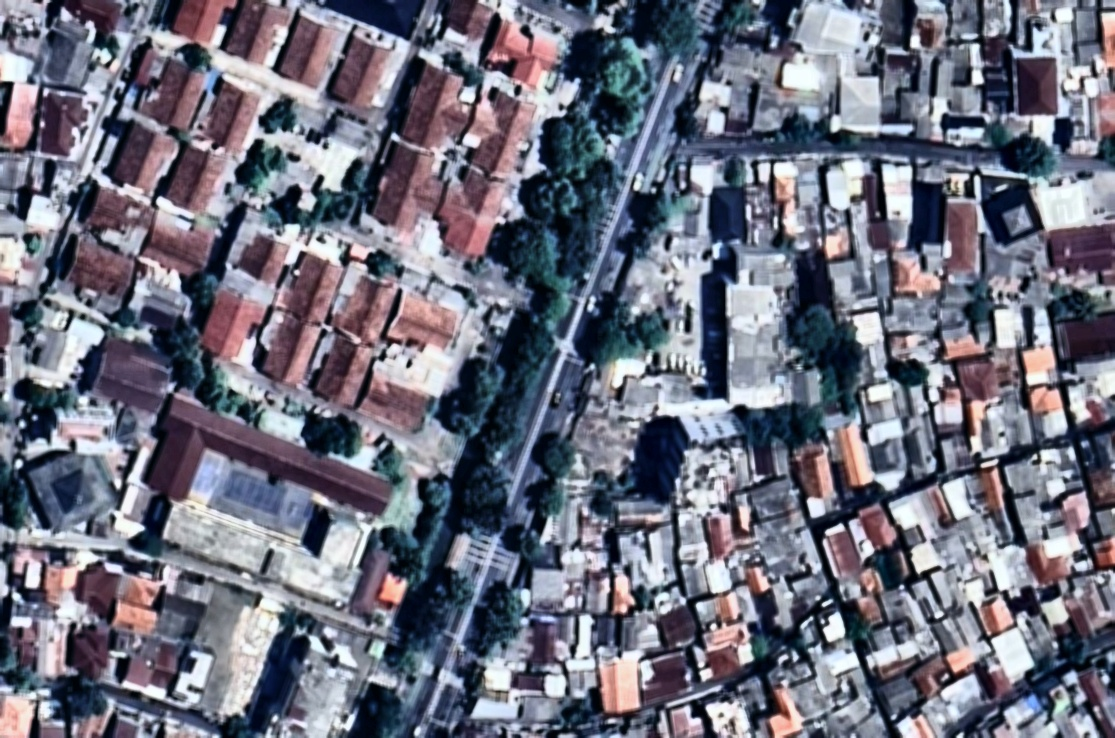building: (156, 394, 398, 520), (157, 496, 363, 611), (248, 607, 390, 738), (648, 394, 758, 527), (996, 438, 1102, 565), (725, 244, 801, 404), (377, 270, 469, 393), (699, 47, 819, 134), (451, 81, 546, 184), (22, 439, 124, 533), (43, 229, 140, 317), (368, 140, 454, 239), (428, 165, 512, 260), (395, 60, 479, 154), (99, 112, 187, 201), (219, 202, 298, 301), (1001, 669, 1114, 737), (247, 301, 330, 391), (86, 335, 178, 415), (187, 70, 269, 156), (69, 178, 160, 255), (136, 199, 222, 279), (1002, 451, 1072, 548), (272, 238, 350, 325), (329, 255, 402, 345), (481, 13, 565, 91), (120, 259, 201, 337), (357, 358, 439, 434), (194, 281, 269, 364), (790, 0, 887, 64), (136, 51, 210, 132), (807, 52, 881, 131), (27, 85, 101, 163), (221, 0, 299, 73), (1011, 15, 1064, 120), (169, 141, 241, 218), (328, 30, 396, 111), (150, 563, 217, 645), (852, 612, 929, 683), (932, 525, 997, 609), (275, 12, 342, 89), (40, 399, 127, 458), (141, 426, 209, 500), (313, 331, 377, 409), (976, 177, 1047, 247), (970, 380, 1038, 453), (687, 616, 760, 683), (316, 0, 427, 42), (1047, 218, 1114, 287), (818, 522, 873, 600), (928, 605, 991, 673), (754, 81, 826, 135), (63, 555, 122, 619), (167, 0, 238, 50), (37, 28, 96, 88), (1066, 356, 1115, 427), (873, 579, 929, 641), (1061, 370, 1115, 433), (1013, 605, 1063, 673), (1060, 572, 1112, 637), (169, 632, 217, 702), (755, 572, 804, 640), (833, 71, 889, 130), (637, 648, 698, 702), (744, 472, 803, 527), (349, 545, 396, 612), (832, 419, 874, 492), (899, 411, 944, 479), (22, 318, 74, 376), (986, 620, 1037, 679), (826, 692, 891, 738), (791, 440, 837, 504), (1078, 427, 1115, 506), (0, 76, 40, 149), (911, 174, 951, 247), (854, 381, 902, 441), (701, 688, 758, 738), (1056, 310, 1115, 358), (793, 251, 835, 318), (829, 255, 878, 312), (877, 294, 936, 341), (852, 499, 902, 554), (1027, 532, 1077, 587), (851, 311, 889, 383), (939, 671, 992, 722), (1077, 665, 1115, 736), (885, 489, 928, 551), (317, 513, 365, 568), (62, 0, 127, 40), (934, 278, 984, 330), (987, 540, 1036, 592), (906, 0, 955, 52), (66, 623, 113, 677), (598, 654, 642, 711), (947, 198, 980, 274), (617, 529, 662, 584), (437, 0, 494, 43), (1036, 181, 1088, 228), (872, 668, 923, 715), (940, 470, 983, 525), (711, 39, 766, 82), (758, 529, 808, 576), (723, 75, 761, 134), (909, 653, 957, 699), (691, 79, 729, 137), (916, 479, 956, 534), (148, 638, 184, 699), (803, 645, 843, 699), (859, 162, 889, 234), (710, 183, 747, 241), (1003, 696, 1054, 738), (945, 88, 986, 140), (107, 598, 160, 638), (615, 373, 662, 418), (72, 701, 129, 738), (724, 10, 774, 52), (787, 676, 832, 722), (896, 253, 949, 292), (877, 155, 911, 215), (961, 510, 1005, 555), (867, 433, 910, 478), (118, 648, 160, 694), (653, 605, 699, 647), (956, 357, 998, 403), (116, 567, 163, 608), (746, 183, 777, 245), (787, 567, 831, 610), (936, 326, 990, 361), (1058, 489, 1099, 534), (822, 200, 852, 261), (9, 547, 50, 591), (12, 594, 76, 622), (614, 497, 671, 528), (113, 404, 152, 449), (524, 620, 561, 667), (1034, 674, 1075, 716), (657, 368, 703, 405), (793, 199, 826, 250), (0, 695, 40, 737), (888, 333, 941, 364), (23, 193, 64, 233), (975, 594, 1016, 634), (524, 566, 567, 604), (42, 556, 75, 605), (705, 510, 738, 559), (928, 610, 966, 652), (588, 606, 626, 648), (893, 374, 930, 417), (1040, 593, 1075, 638), (679, 558, 717, 599), (983, 250, 1036, 279), (734, 676, 773, 715), (668, 702, 710, 738), (752, 438, 791, 476), (905, 539, 943, 578), (937, 431, 974, 471), (976, 464, 1008, 510), (884, 48, 915, 95), (471, 691, 523, 719), (814, 604, 850, 644), (823, 159, 852, 208), (673, 516, 705, 559), (892, 707, 936, 738), (928, 566, 960, 608), (1078, 624, 1115, 660), (1007, 584, 1042, 622), (1026, 380, 1065, 414), (880, 0, 907, 49), (380, 570, 410, 614), (792, 157, 820, 204), (790, 367, 822, 408), (953, 1, 985, 42), (933, 397, 966, 436), (926, 363, 959, 402), (2, 618, 42, 650), (0, 150, 31, 191), (942, 643, 978, 678), (853, 591, 886, 629), (514, 669, 564, 694), (1092, 508, 1114, 564), (955, 41, 984, 83), (565, 656, 597, 694), (1023, 272, 1055, 310), (518, 694, 561, 722), (553, 498, 580, 542), (574, 513, 607, 549), (584, 362, 615, 400), (930, 55, 956, 100), (1072, 4, 1102, 43), (733, 581, 759, 626), (986, 66, 1010, 114), (782, 58, 822, 86), (742, 560, 772, 597), (821, 401, 858, 431), (478, 663, 515, 692), (1093, 91, 1115, 139), (584, 571, 609, 613), (1021, 342, 1057, 371), (993, 306, 1016, 350), (895, 88, 922, 125), (610, 574, 634, 615), (986, 0, 1014, 35), (683, 194, 708, 233), (773, 159, 797, 199), (827, 648, 861, 676), (705, 559, 732, 594), (694, 595, 723, 627), (573, 613, 593, 658), (804, 492, 836, 519), (715, 589, 743, 619), (775, 195, 793, 241), (1096, 571, 1114, 617), (693, 149, 783, 158), (1040, 407, 1068, 435), (1074, 39, 1103, 66), (982, 38, 1012, 64), (873, 258, 892, 297), (940, 170, 983, 186), (34, 718, 70, 737), (107, 716, 140, 736), (1102, 12, 1114, 67), (556, 614, 576, 647), (36, 638, 55, 672), (869, 218, 889, 249), (855, 321, 882, 343), (17, 641, 38, 668), (562, 561, 587, 582), (727, 558, 746, 585), (860, 344, 878, 372), (621, 718, 647, 737), (1068, 139, 1097, 155), (851, 75, 879, 91), (113, 631, 133, 653), (1039, 0, 1079, 11), (868, 236, 889, 250), (868, 312, 883, 323), (921, 92, 933, 105), (855, 217, 866, 230), (941, 79, 953, 90), (937, 99, 946, 112), (775, 171, 794, 177), (1029, 280, 1043, 288)
tree: (471, 318, 566, 464), (395, 560, 480, 659), (492, 213, 587, 294), (428, 349, 508, 445), (150, 316, 224, 394), (562, 147, 631, 222), (543, 105, 610, 181), (585, 32, 659, 99), (195, 365, 263, 435), (776, 293, 844, 361), (635, 0, 708, 63), (459, 459, 515, 540), (229, 134, 294, 198), (291, 409, 368, 462), (473, 583, 526, 657), (580, 299, 637, 363), (381, 520, 435, 587), (632, 178, 693, 237), (411, 476, 454, 551), (53, 671, 113, 724), (528, 431, 581, 485), (525, 172, 578, 225), (557, 214, 598, 279), (1010, 130, 1062, 179), (0, 645, 44, 702), (519, 473, 569, 522), (358, 684, 404, 735), (820, 319, 864, 368), (742, 406, 796, 444), (366, 442, 406, 489), (380, 642, 423, 685), (602, 97, 645, 139), (0, 464, 28, 526), (20, 376, 74, 408), (502, 516, 543, 558), (630, 309, 671, 350), (715, 0, 759, 38), (128, 523, 169, 562), (265, 196, 311, 230), (186, 264, 222, 306), (307, 186, 340, 229), (1066, 283, 1105, 318), (777, 111, 822, 141), (606, 0, 643, 36), (789, 405, 823, 441), (538, 289, 571, 326), (262, 98, 299, 131), (585, 489, 615, 520), (986, 118, 1017, 148), (16, 300, 49, 328), (967, 280, 990, 320), (344, 159, 371, 193), (843, 607, 870, 641), (627, 233, 656, 264), (220, 712, 254, 737), (720, 159, 749, 188), (820, 363, 842, 401), (894, 361, 926, 387), (181, 43, 214, 68), (840, 367, 857, 413), (827, 125, 860, 148), (1044, 295, 1070, 324), (874, 552, 896, 586), (94, 31, 125, 55), (749, 630, 773, 661), (594, 474, 637, 489), (368, 254, 399, 274), (678, 106, 696, 138), (114, 307, 139, 330), (334, 194, 357, 216), (470, 255, 492, 277), (25, 234, 46, 257), (772, 233, 795, 254), (790, 635, 811, 655), (1048, 280, 1070, 299), (463, 286, 482, 308), (635, 587, 653, 607), (580, 0, 601, 16), (0, 401, 15, 423), (662, 154, 679, 172), (426, 399, 441, 418)
